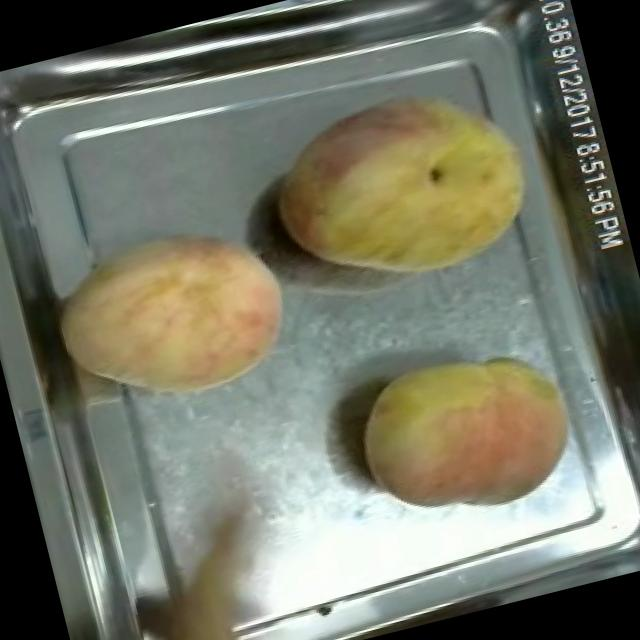Fruit: (246, 53, 562, 320), (36, 200, 310, 432), (334, 319, 596, 543)
